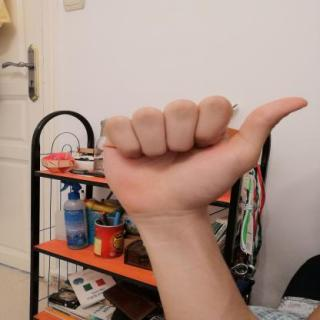DAD: (86, 90, 316, 222)
